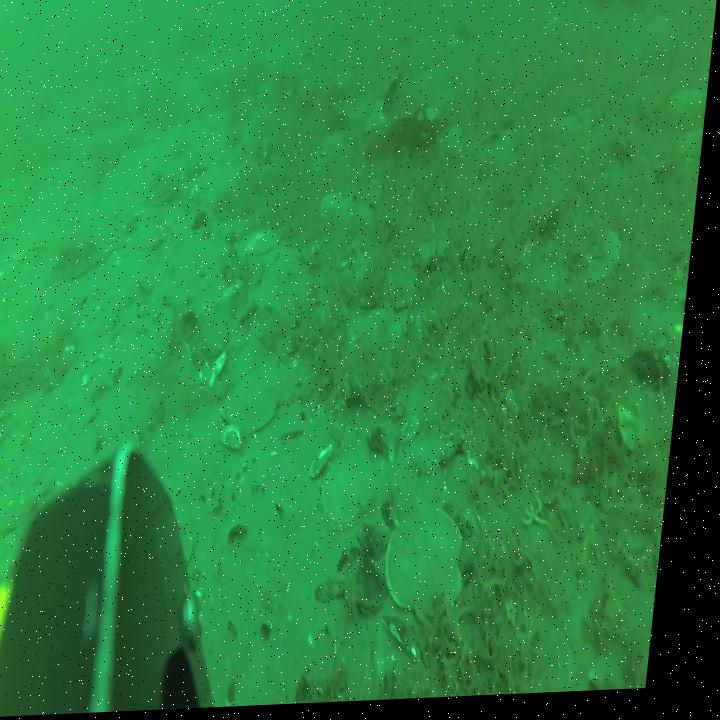scallop: (393, 514, 484, 630), (331, 449, 392, 535), (236, 365, 292, 438), (581, 235, 629, 292), (137, 220, 177, 258), (324, 192, 357, 222), (260, 231, 286, 258), (242, 231, 268, 256)
